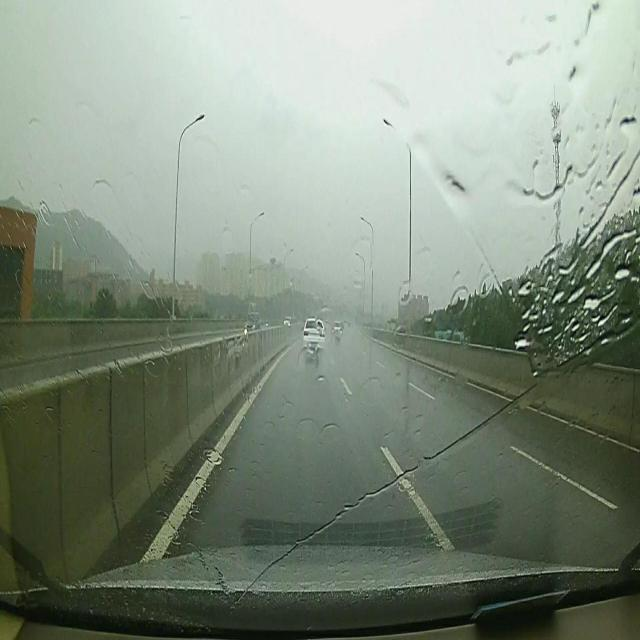car: (302, 316, 326, 349), (246, 312, 260, 329), (334, 322, 344, 339)
